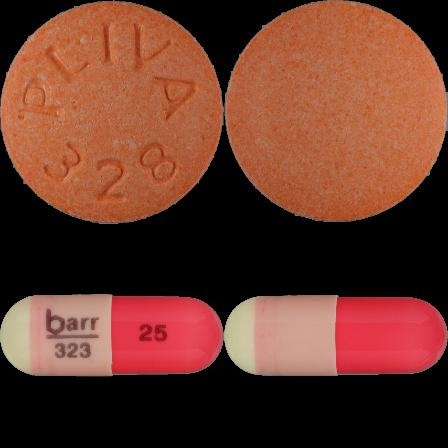51079-076: (0, 0, 224, 224)
